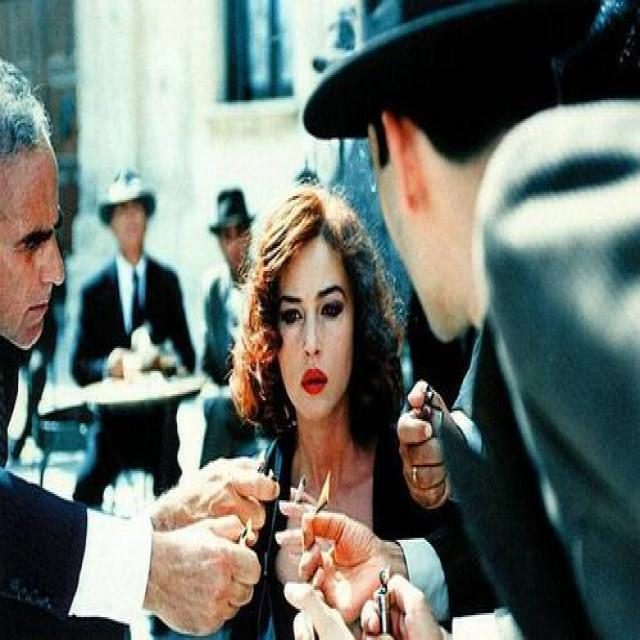Сигарета: (294, 473, 306, 505)
Тело: (0, 62, 229, 640), (194, 185, 425, 640), (78, 165, 190, 496), (188, 170, 262, 439)
